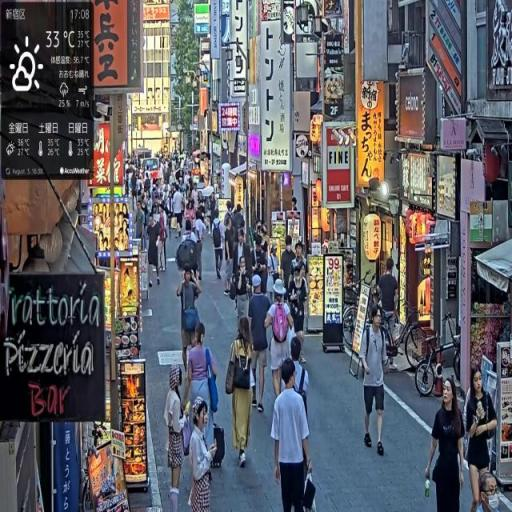person: (272, 359, 315, 512), (425, 376, 467, 512), (225, 316, 259, 472), (464, 364, 499, 512), (182, 321, 222, 440), (359, 310, 388, 455), (188, 398, 221, 512), (247, 271, 273, 415), (164, 367, 188, 508), (177, 263, 203, 383), (377, 257, 400, 361), (213, 213, 227, 286), (157, 201, 170, 275)
